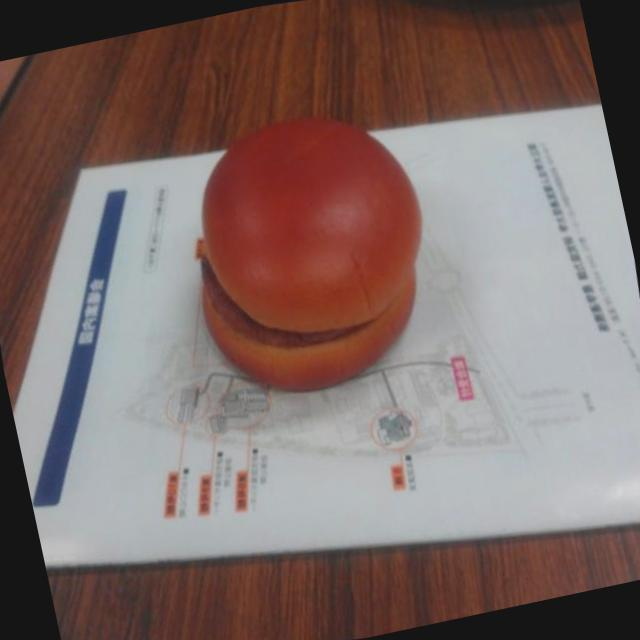Hamburger: (148, 72, 470, 420)
